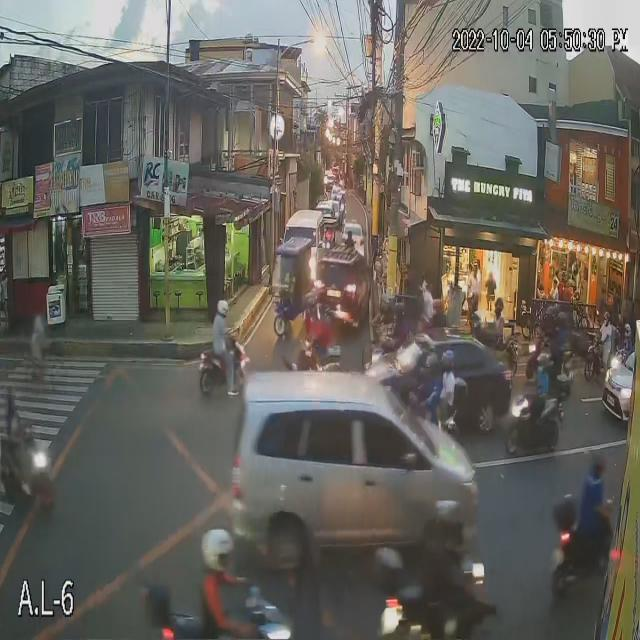helmet: (421, 501, 469, 543), (197, 528, 233, 573), (586, 442, 611, 483), (536, 301, 560, 333), (531, 349, 560, 375), (1, 381, 20, 414), (208, 297, 231, 324), (422, 349, 441, 378), (424, 297, 449, 319), (439, 348, 460, 371), (486, 293, 504, 319), (553, 308, 572, 331), (468, 307, 484, 331), (389, 296, 403, 323), (597, 310, 614, 329), (624, 319, 633, 339)
motorcycle: (141, 571, 303, 640), (371, 556, 491, 640), (548, 493, 612, 592), (388, 387, 468, 447), (505, 387, 572, 456), (0, 429, 55, 511), (193, 340, 248, 395), (578, 339, 616, 381), (603, 349, 636, 390)
rider: (185, 523, 247, 640), (421, 497, 472, 579), (582, 443, 619, 521), (0, 376, 24, 473), (208, 292, 234, 357), (437, 345, 456, 419), (421, 352, 444, 411), (533, 349, 553, 413), (489, 289, 508, 347), (429, 288, 446, 345), (391, 298, 408, 353), (556, 304, 574, 355), (466, 306, 486, 350), (541, 302, 558, 351), (595, 308, 613, 347), (619, 321, 636, 362)
